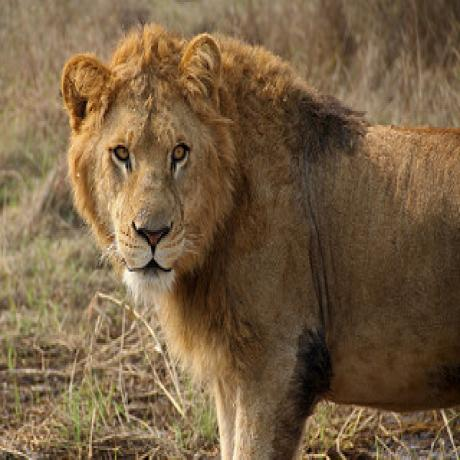Lion: (60, 23, 460, 460)
